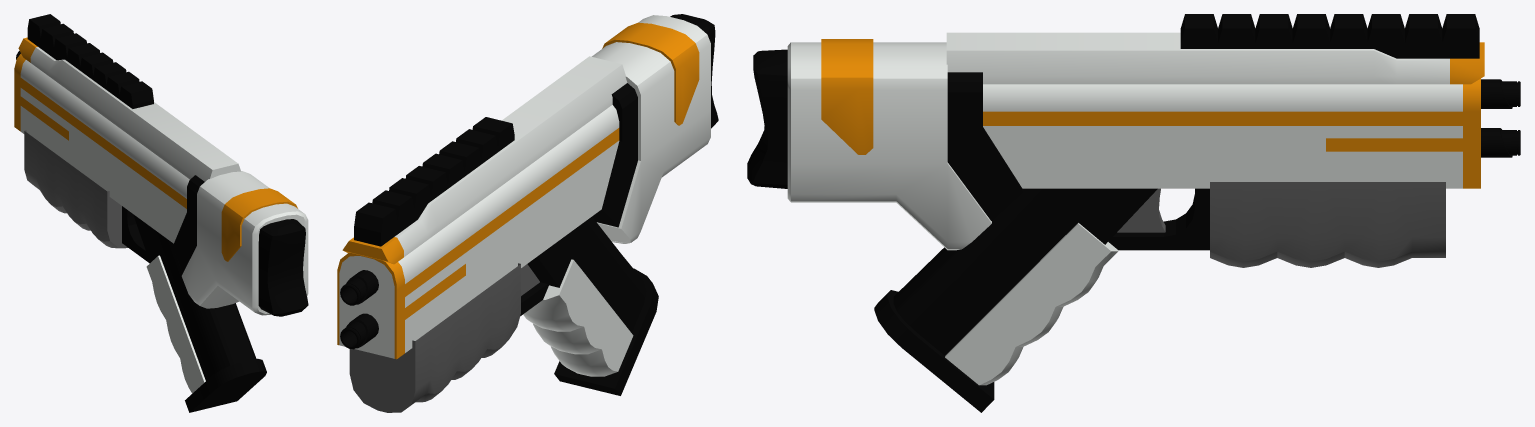
Rendered from coil_assault.glb.
3 renders of one model, left to right at view 1: azimuth 30°, elevation 25°; view 2: azimuth 150°, elevation 25°; view 3: azimuth 270°, elevation 25°, orthographic. The views are drawn at different scales.
Parts seen in each view (by area): view 1: Pistol_3; view 2: Pistol_3; view 3: Pistol_3.
Part boxes in pixels (box(x1,y1,x2,y2)): Pistol_3: box(14, 14, 308, 412); Pistol_3: box(337, 14, 718, 412); Pistol_3: box(747, 14, 1520, 412).
Bounding box in the file's own units: 0.114 × 0.4864 × 0.9094.
